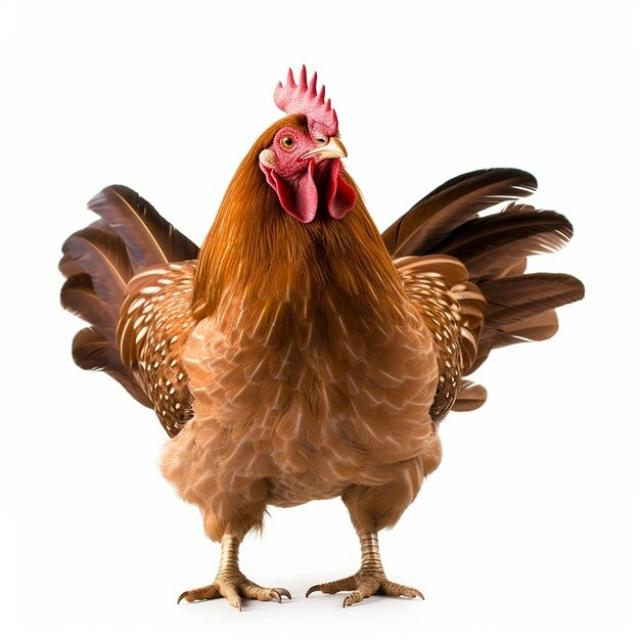Chicken: (59, 67, 586, 610)
